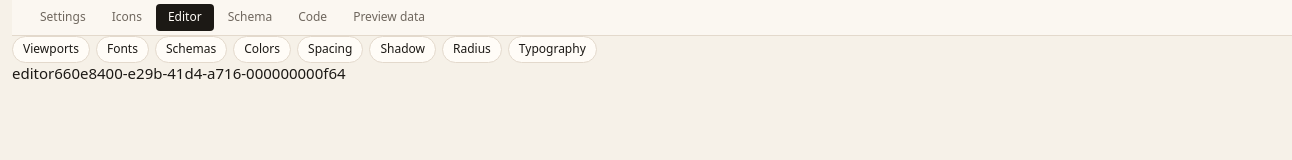
Test: editor subnavigation › shows Icons in the subnav and keeps Schemas within Settings
expect the button "Icons" is shown: met, box [100,4,154,31]
Click the button "Settings" at (63, 18), box [28,4,98,31]
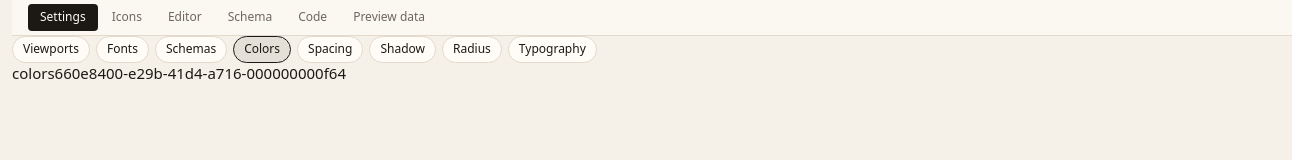
Click the button "Schemas" at (191, 49), box [155,36,227,63]
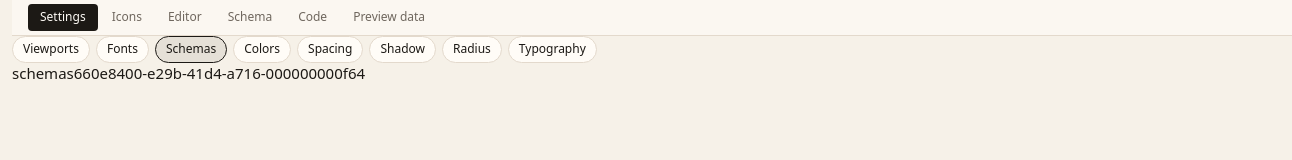
expect the text with test id "surface" reads "schemas": met, box [12,63,74,83]
Click the button "Colors" at (262, 49), box [233,36,291,63]
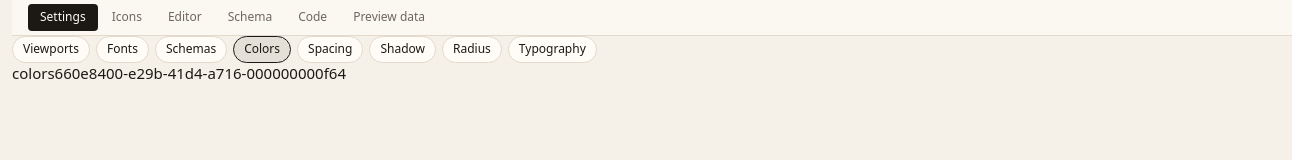
expect the text with test id "surface" reads "colors": met, box [12,63,55,83]
